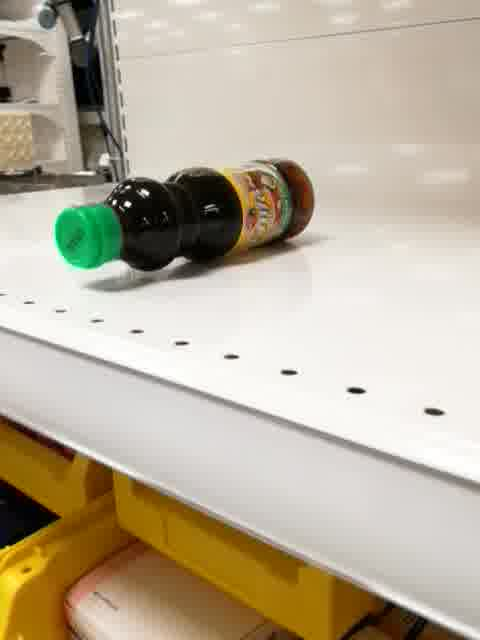cookingoil: (50, 154, 317, 274)
